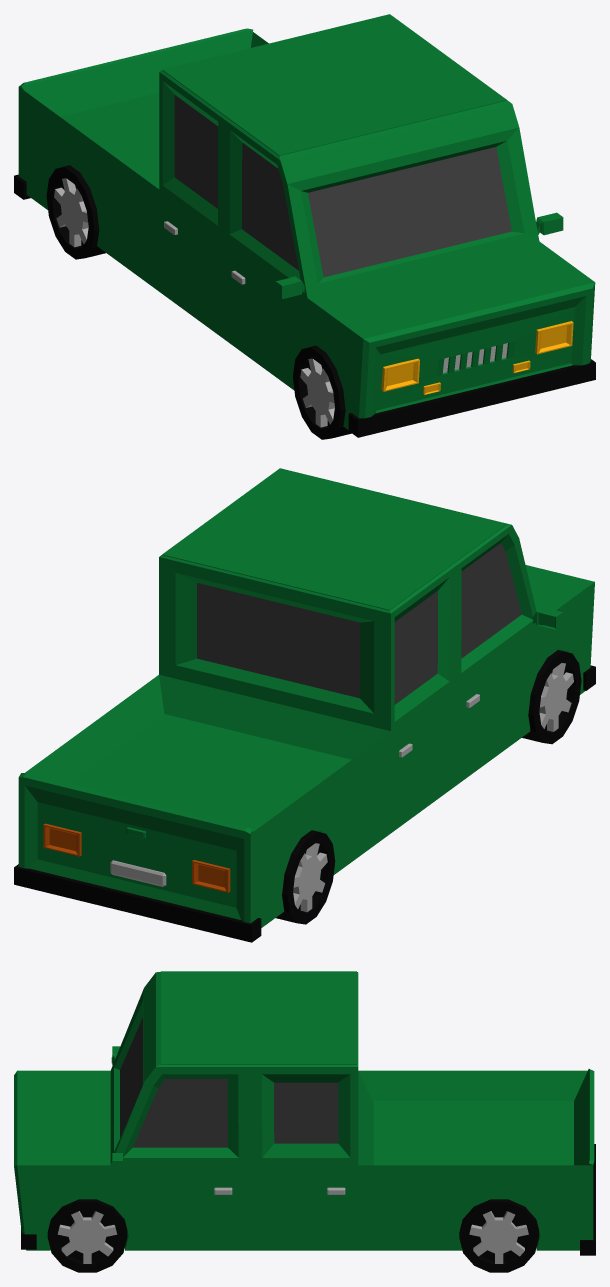
The model's file is FL WHEEL.006_BODY.006.glb.
3 views of the same model, one above another, from view 1: azimuth 30°, elevation 25°; view 2: azimuth 150°, elevation 25°; view 3: azimuth 270°, elevation 25° (orthographic). The views are drawn at different scales.
Parts seen in each view (by area): view 1: FL WHEEL.006_BODY.006_0; view 2: FL WHEEL.006_BODY.006_0; view 3: FL WHEEL.006_BODY.006_0.
Boxes of the visible parts, x1,y1,x2,y2 form: FL WHEEL.006_BODY.006_0: (14,14,595,439); FL WHEEL.006_BODY.006_0: (14,468,595,942); FL WHEEL.006_BODY.006_0: (14,971,595,1272).
Bounding box in the file's own units: 0.3052 × 0.2556 × 0.6539.
Materials: 1 (1 with a texture image).
